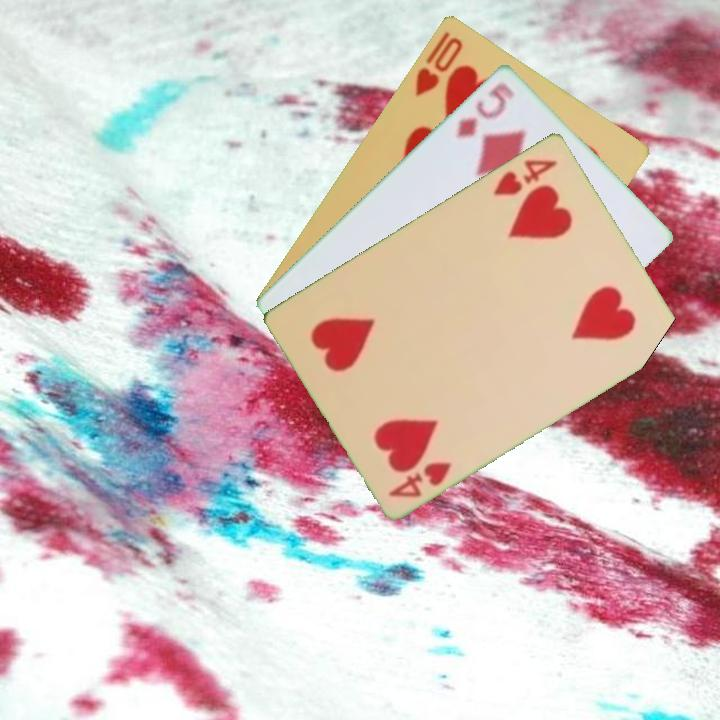10h: (411, 27, 466, 99)
4h: (489, 155, 561, 198), (385, 457, 455, 500)
5d: (452, 78, 518, 140)
